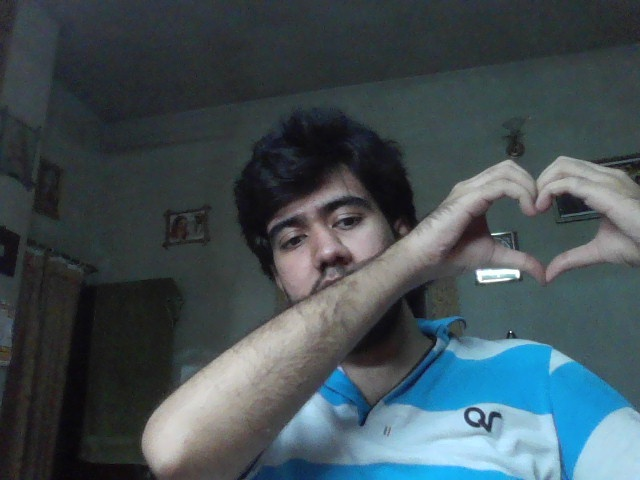Love: (423, 155, 640, 287)
